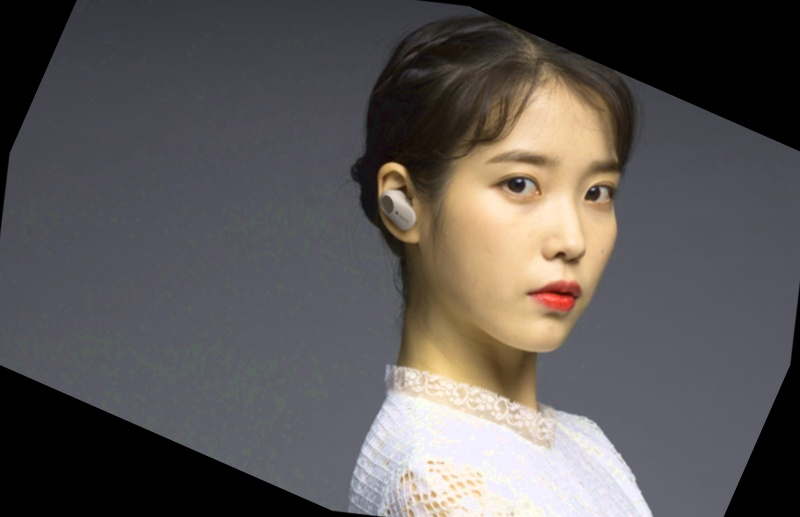earphone: (349, 146, 452, 259)
